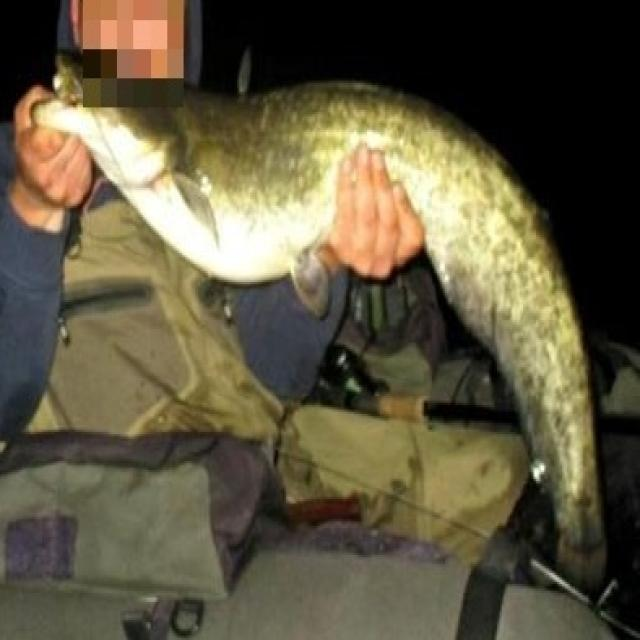Catfish: (40, 49, 614, 596)
